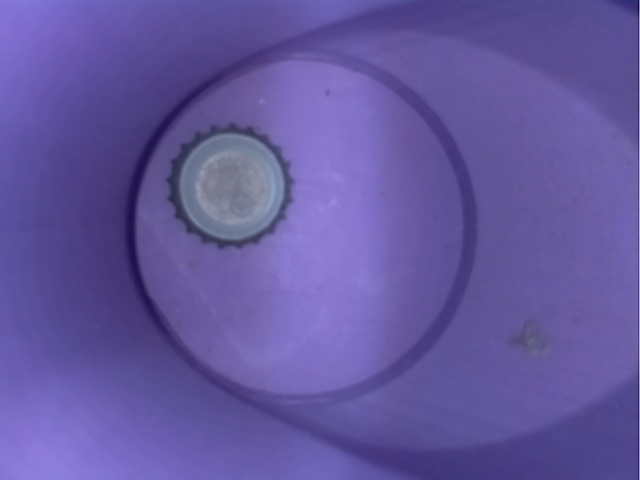capsule: (156, 117, 314, 252)
